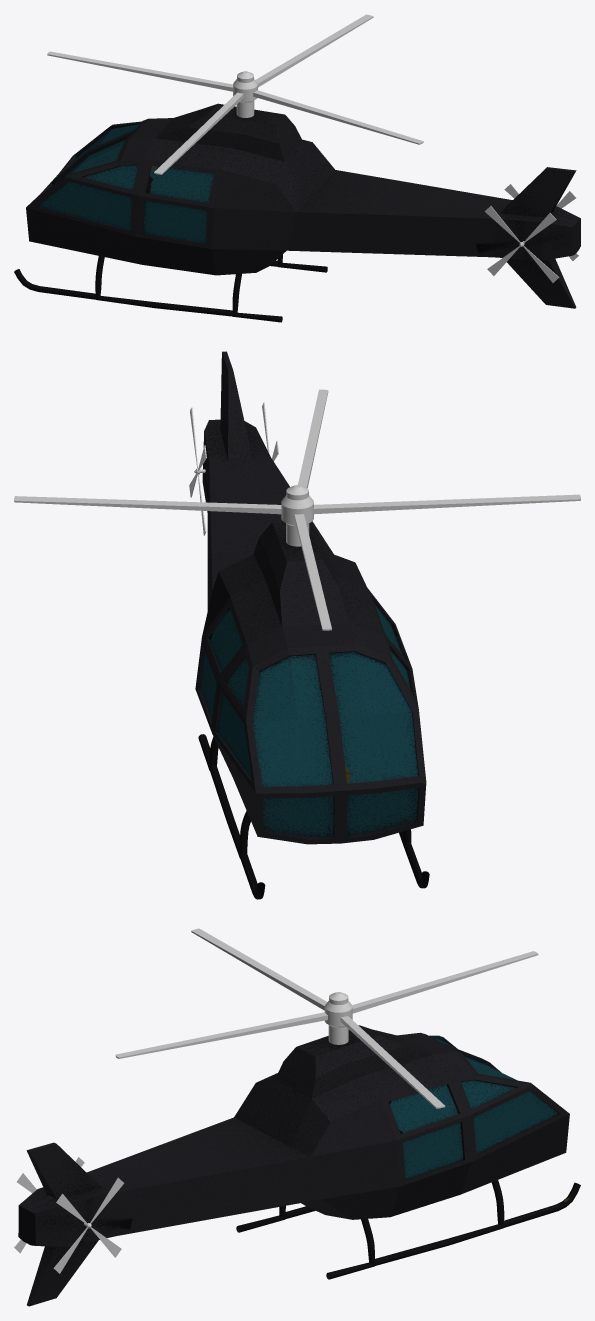
The model's file is anim_000125.obj.
3 renders of one model, top to bottom at view 1: azimuth 30°, elevation 25°; view 2: azimuth 150°, elevation 25°; view 3: azimuth 270°, elevation 25°, orthographic. The views are drawn at different scales.
Parts seen in each view (by area): view 1: Helicopter.007_Cylinder.008, Helicopter.001_Cylinder.001, Helicopter.003_Cylinder.004; view 2: Helicopter.007_Cylinder.008, Helicopter.001_Cylinder.001; view 3: Helicopter.007_Cylinder.008, Helicopter.001_Cylinder.001, Helicopter.004_Cylinder.005.
Boxes of the visible parts, bbox=[...] form: Helicopter.007_Cylinder.008: bbox=[14, 103, 580, 322]; Helicopter.001_Cylinder.001: bbox=[47, 14, 423, 174]; Helicopter.003_Cylinder.004: bbox=[484, 206, 559, 282]; Helicopter.007_Cylinder.008: bbox=[195, 351, 429, 899]; Helicopter.001_Cylinder.001: bbox=[14, 389, 580, 630]; Helicopter.007_Cylinder.008: bbox=[18, 1025, 580, 1306]; Helicopter.001_Cylinder.001: bbox=[115, 928, 538, 1108]; Helicopter.004_Cylinder.005: bbox=[53, 1177, 124, 1273].
Bounding box in the file's own units: 5.59 × 3.21 × 6.49.
